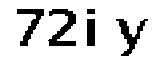2: (48, 7, 78, 51)
7: (15, 6, 45, 50)
i: (82, 4, 104, 54)
y: (113, 15, 152, 58)
